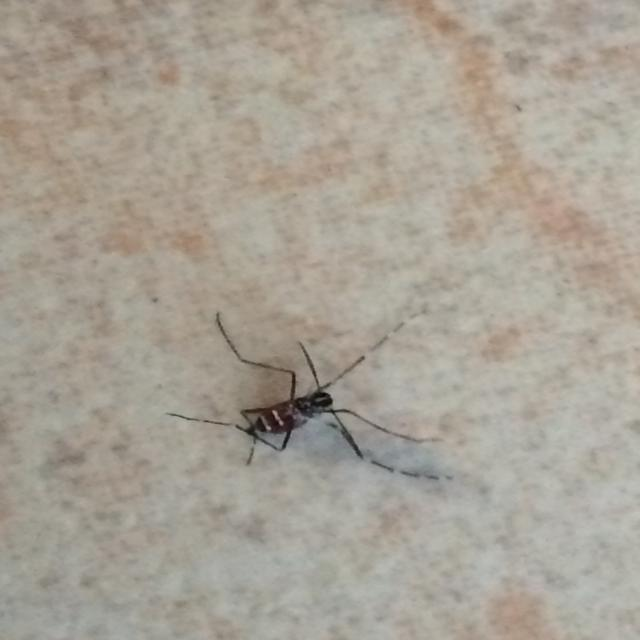albopictus: (158, 292, 456, 484)
